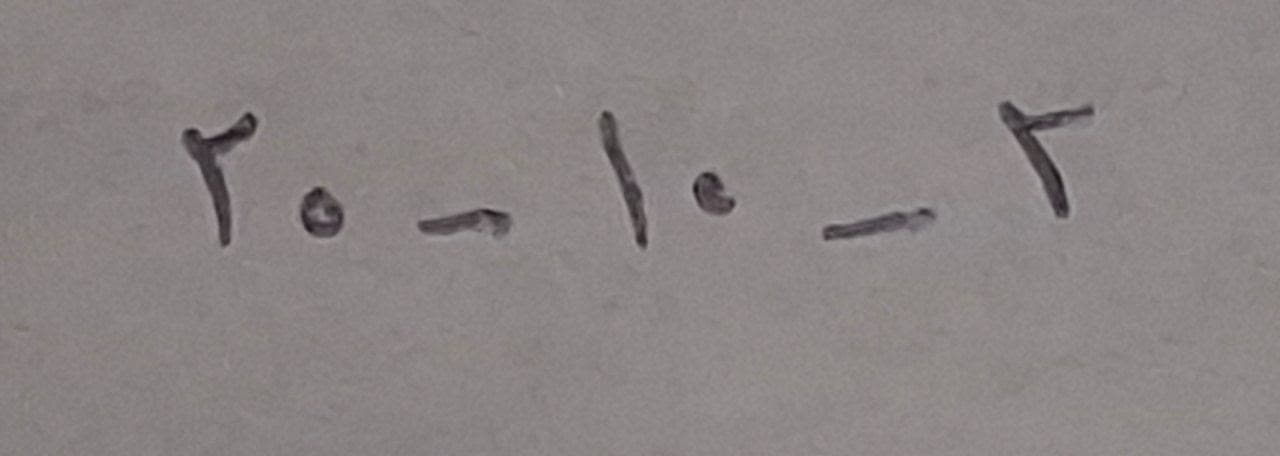character: (991, 97, 1100, 222), (180, 109, 261, 251), (595, 108, 650, 251), (820, 204, 939, 248), (417, 205, 511, 243), (295, 183, 344, 242), (688, 170, 739, 220)
